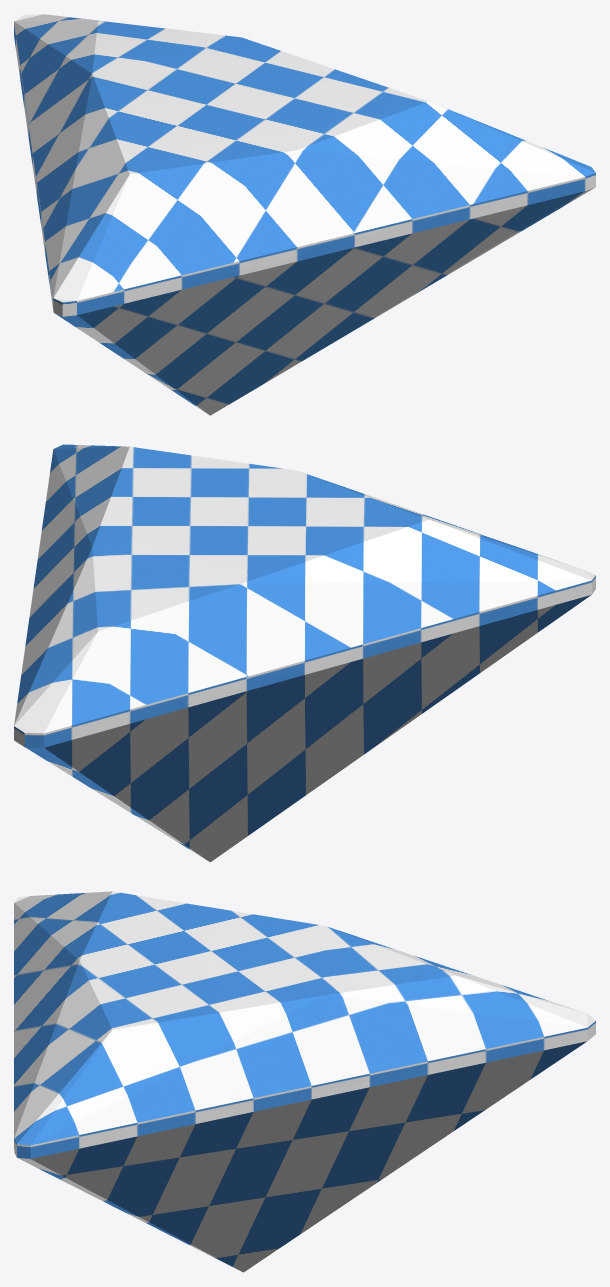
Rendered from TriangleCutPointy.FBX.
The picture shows the model from 3 angles, top to bottom: view 1: azimuth 30°, elevation 25°; view 2: azimuth 150°, elevation 25°; view 3: azimuth 270°, elevation 25°; orthographic projection. The views are drawn at different scales.
Visible parts, largest first — view 1: TriangleCutPointy; view 2: TriangleCutPointy; view 3: TriangleCutPointy.
Part boxes in pixels (x1,y1,x2,y2): TriangleCutPointy: (14,14,595,415); TriangleCutPointy: (14,444,595,862); TriangleCutPointy: (14,891,595,1272).
Size of the model in its own units: 1.14 by 0.6667 by 1.13.
